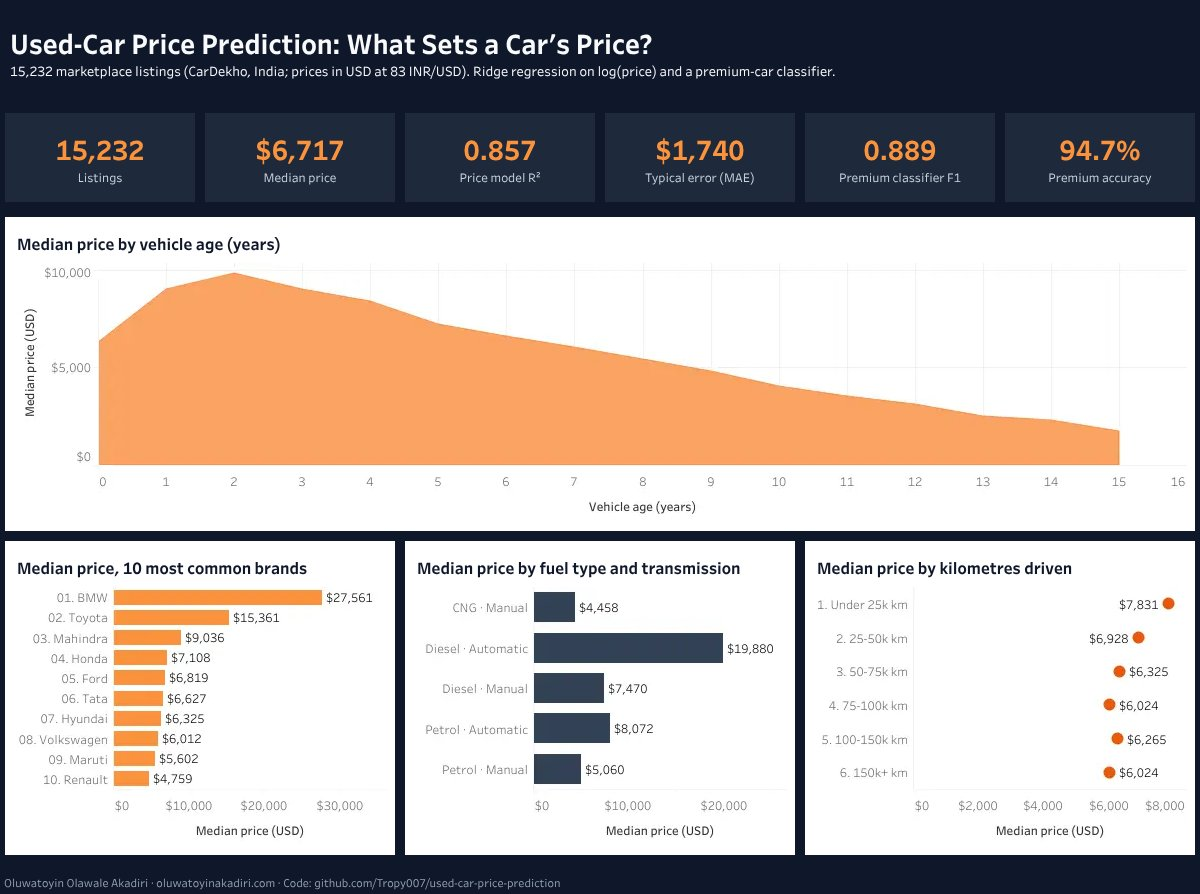

The dashboard page shown, as its layout file describes it:
{"tool":"tableau","page":{"name":"Used Car Prices","canvas":[1200,900],"ordinal":0},"visuals":[{"type":"text","box":[0,0,1200,103.5]},{"type":"text","box":[0,108,200,99]},{"type":"text","box":[200,108,200,99]},{"type":"text","box":[400,108,200,99]},{"type":"text","box":[600,108,200,99]},{"type":"text","box":[800,108,200,99]},{"type":"text","box":[1000,108,200,99]},{"type":"worksheet","title":"By age","mark":"Area","rows":["Median price (USD)"],"cols":["Vehicle age (years)"],"box":[0,211.5,1200,324]},{"type":"worksheet","title":"By brand","mark":"Bar","rows":["Brand"],"cols":["Median price (USD)"],"box":[0,535.5,400,324]},{"type":"worksheet","title":"Fuel and transmission","mark":"Bar","rows":["Group"],"cols":["Median price (USD)"],"box":[400,535.5,400,324]},{"type":"worksheet","title":"By mileage","mark":"Circle","rows":["Kilometres driven"],"cols":["Median price (USD)"],"box":[800,535.5,400,324]},{"type":"text","box":[0,864,1200,36]}]}

Visuals, with their boxes in screenshot pixels (x1, y1, x2, y2), scaled from the page's 1200x900 canvas onto the 1200x894 screenshot:
text: detection(0, 0, 1199, 103)
text: detection(0, 107, 200, 206)
text: detection(200, 107, 400, 206)
text: detection(400, 107, 600, 206)
text: detection(600, 107, 800, 206)
text: detection(800, 107, 1000, 206)
text: detection(1000, 107, 1199, 206)
"By age" worksheet (Area marks): detection(0, 210, 1199, 532)
"By brand" worksheet (Bar marks): detection(0, 532, 400, 854)
"Fuel and transmission" worksheet (Bar marks): detection(400, 532, 800, 854)
"By mileage" worksheet (Circle marks): detection(800, 532, 1199, 854)
text: detection(0, 858, 1199, 893)
